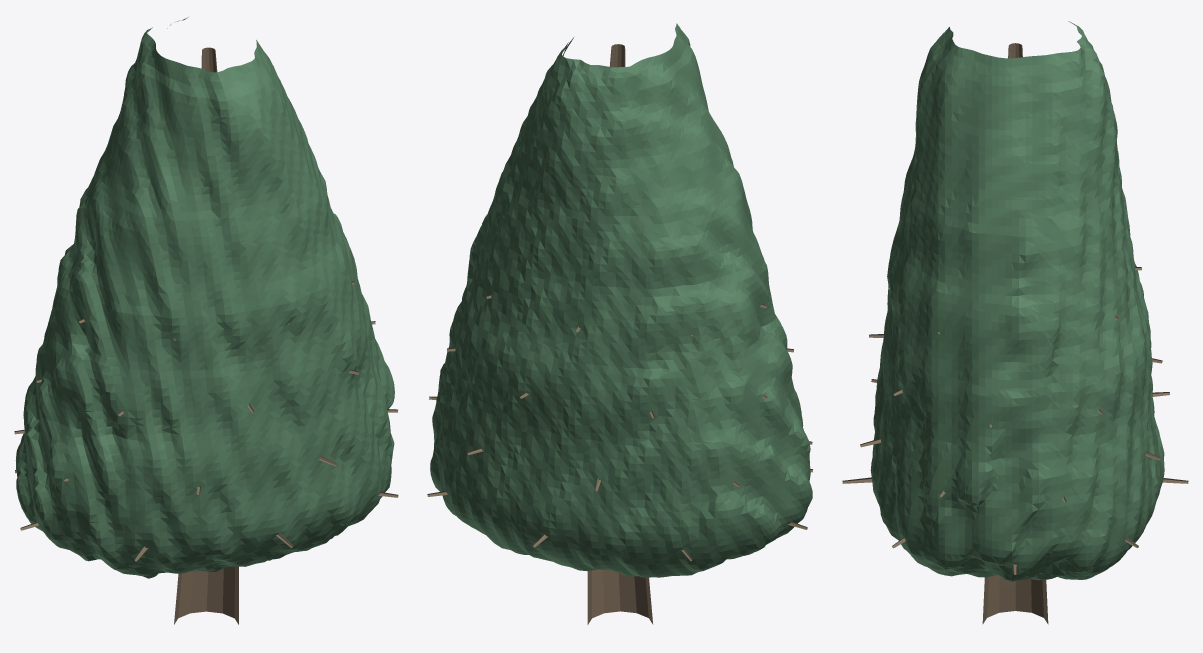
Rendered from taiga_cedar.glb.
3 views of the same model, side by side, from view 1: azimuth 30°, elevation 25°; view 2: azimuth 150°, elevation 25°; view 3: azimuth 270°, elevation 25° (orthographic).
Visible parts, largest first — view 1: taiga_cedar; view 2: taiga_cedar; view 3: taiga_cedar.
Boxes of the visible parts, box(x1,y1,x2,y2) form: taiga_cedar: box(14, 17, 398, 624); taiga_cedar: box(427, 23, 812, 624); taiga_cedar: box(842, 21, 1188, 624).
Bounding box in the file's own units: 5 × 7.5 × 4.
